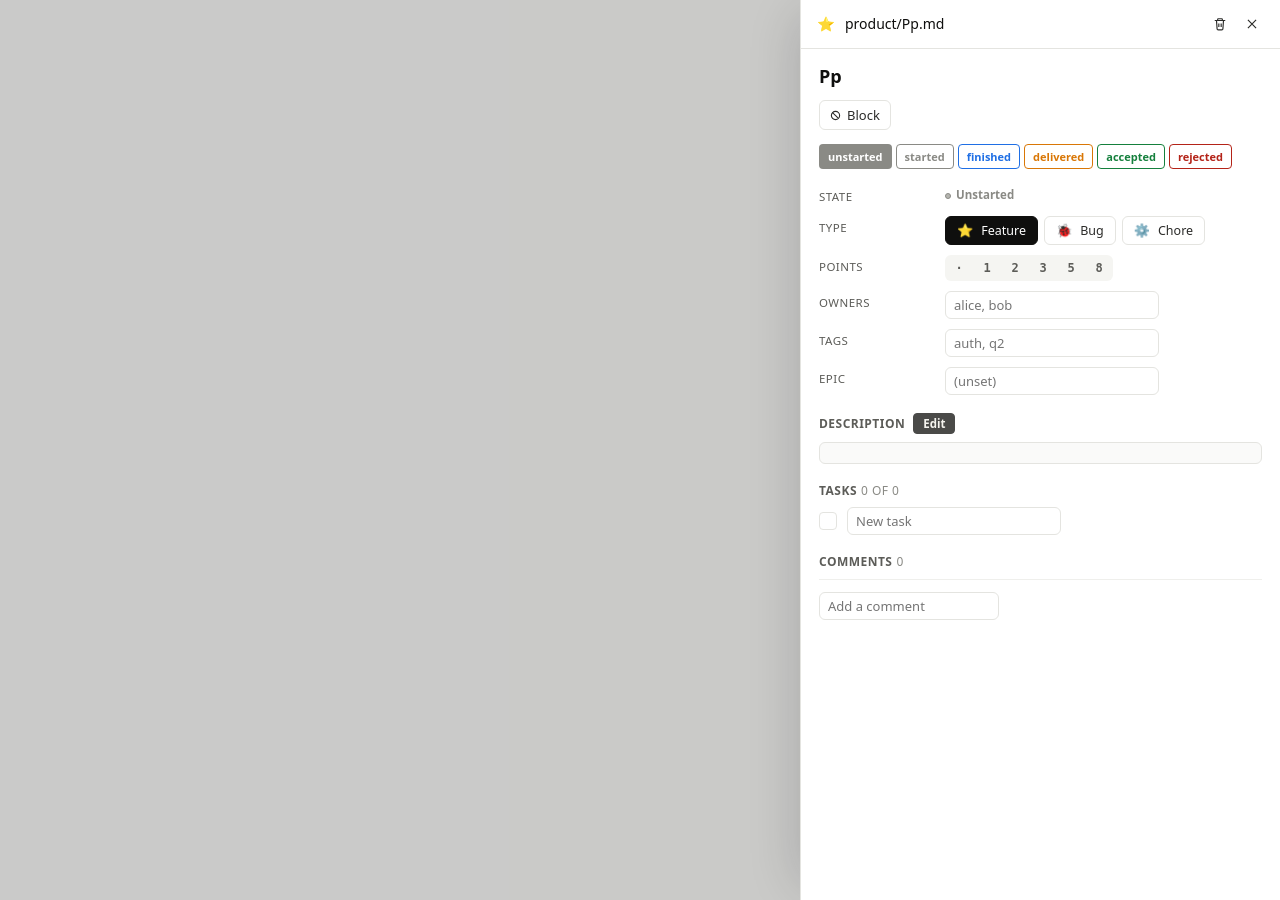
it: DetailPanel: Delete affordance › clicking Delete does NOT immediately post; it opens the confirm ceremony
Click the button named "Delete story".
click(1220, 24)  # box [1206,10,1234,38]
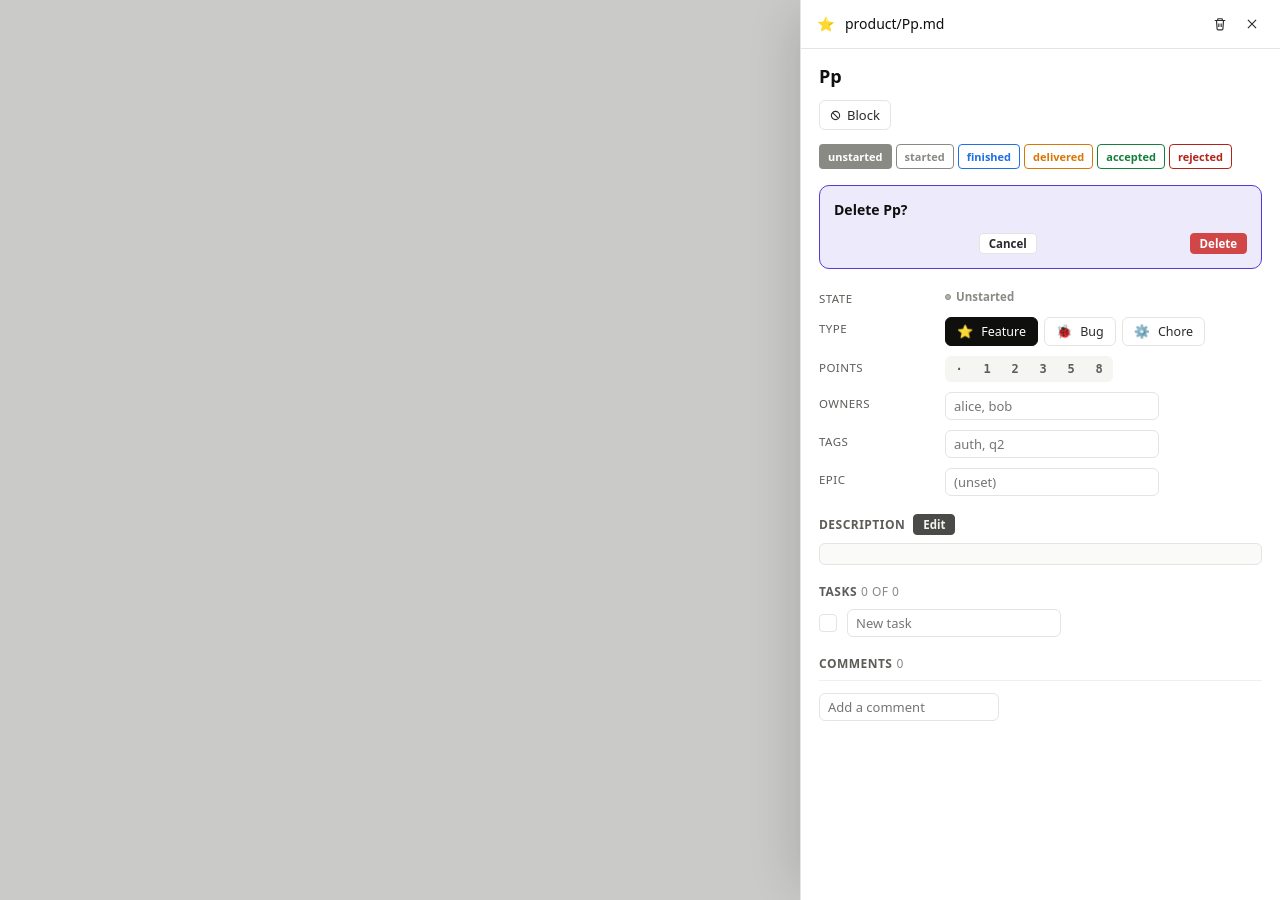
Now the dialog named "confirm delete" is shown, box [819,185,1262,269]
